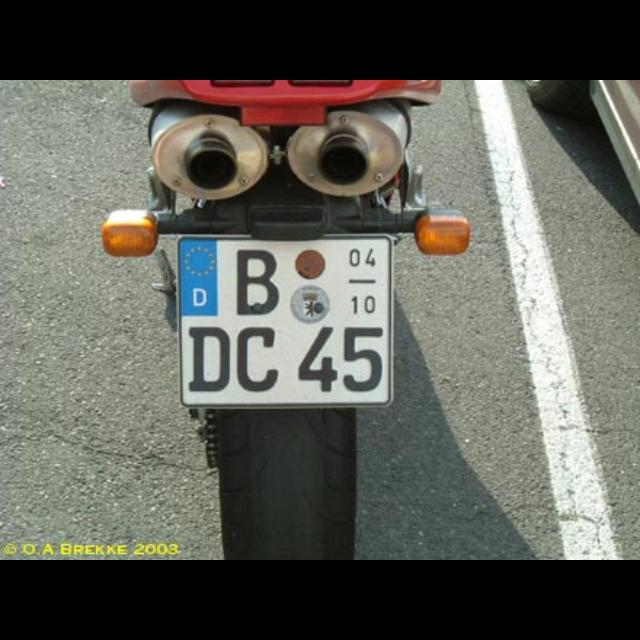license-plates: (179, 236, 393, 408)
